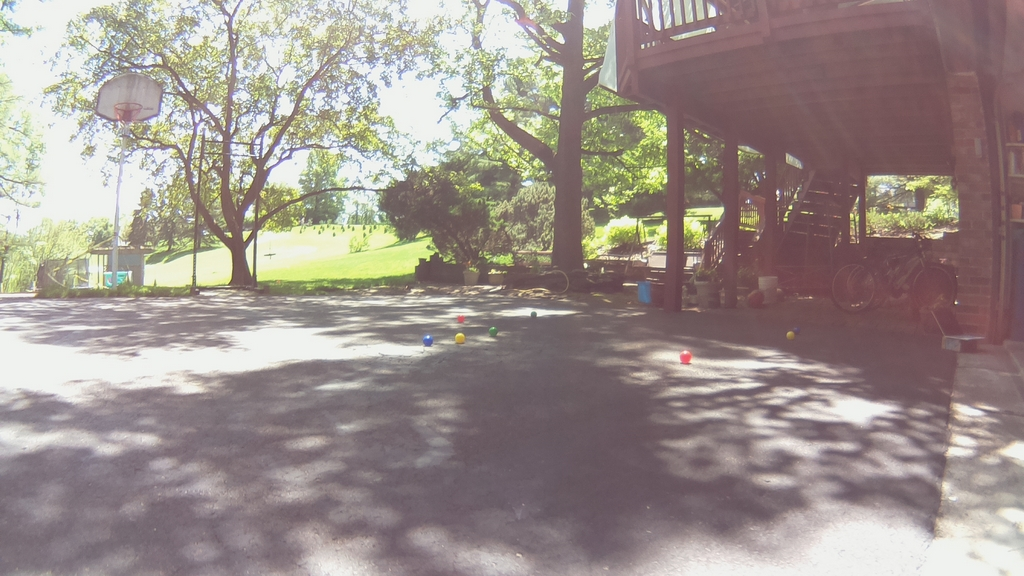ball: (678, 351, 691, 364)
